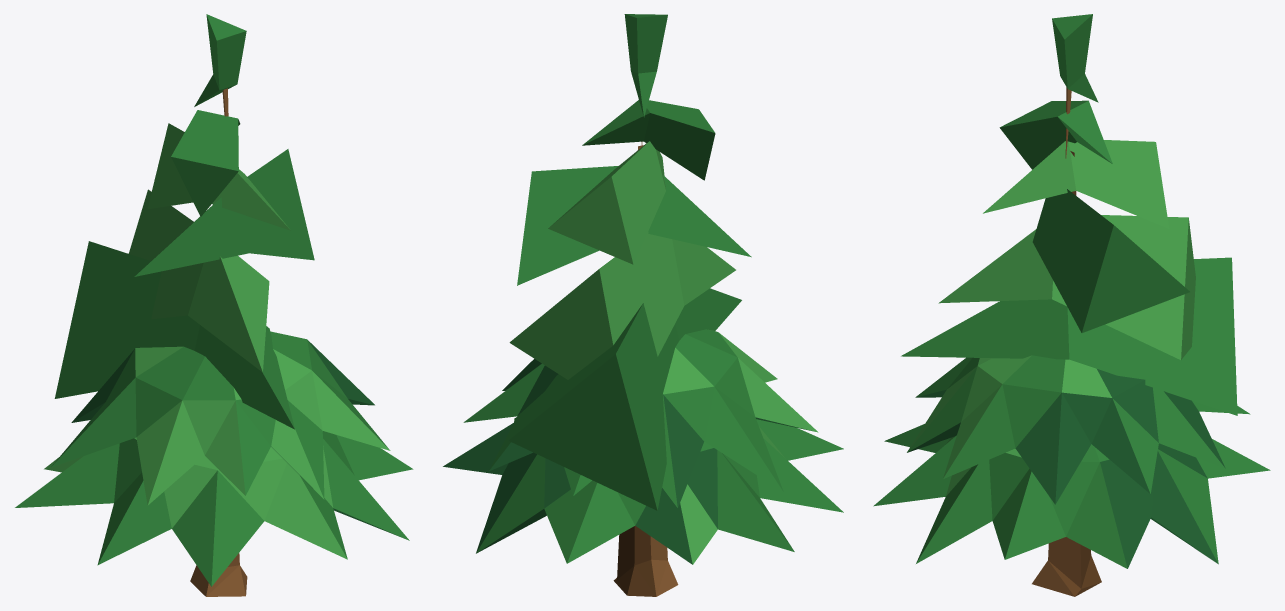
File: pine_bloom_far.glb
3 renders of one model, left to right at view 1: azimuth 30°, elevation 25°; view 2: azimuth 150°, elevation 25°; view 3: azimuth 270°, elevation 25°, orthographic. The views are drawn at different scales.
Parts seen in each view (by area): view 1: pine_bloom_far; view 2: pine_bloom_far; view 3: pine_bloom_far.
Boxes of the visible parts, x1,y1,x2,y2 form: pine_bloom_far: (15,14,413,596); pine_bloom_far: (443,14,843,596); pine_bloom_far: (873,14,1270,596).
Size of the model in its own units: 4.85 by 7.56 by 4.81.
